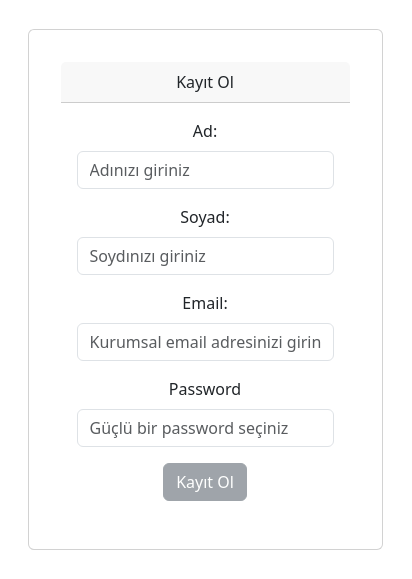
it: Register Page › Error Messeges › name input throws error for 2 chars
In the field with test id "ad-input": (206, 170) [77,151,334,189], type "or"
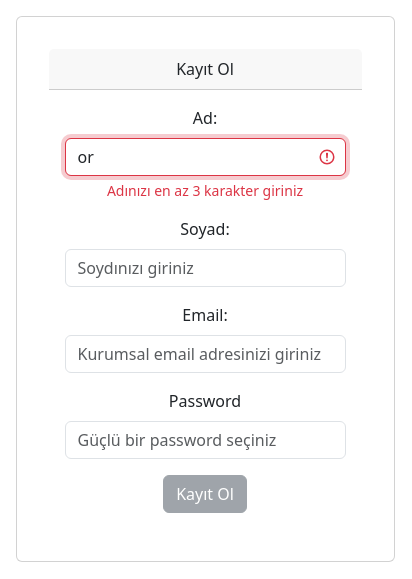
Expected: the text "Adınızı en az 3 karakter giriniz" is shown, [107,181,303,200]
